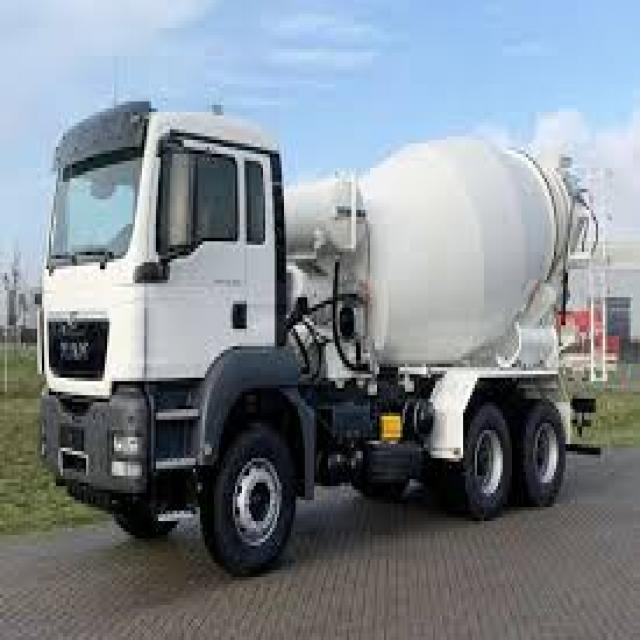Mixer Truck: (32, 96, 619, 576)
